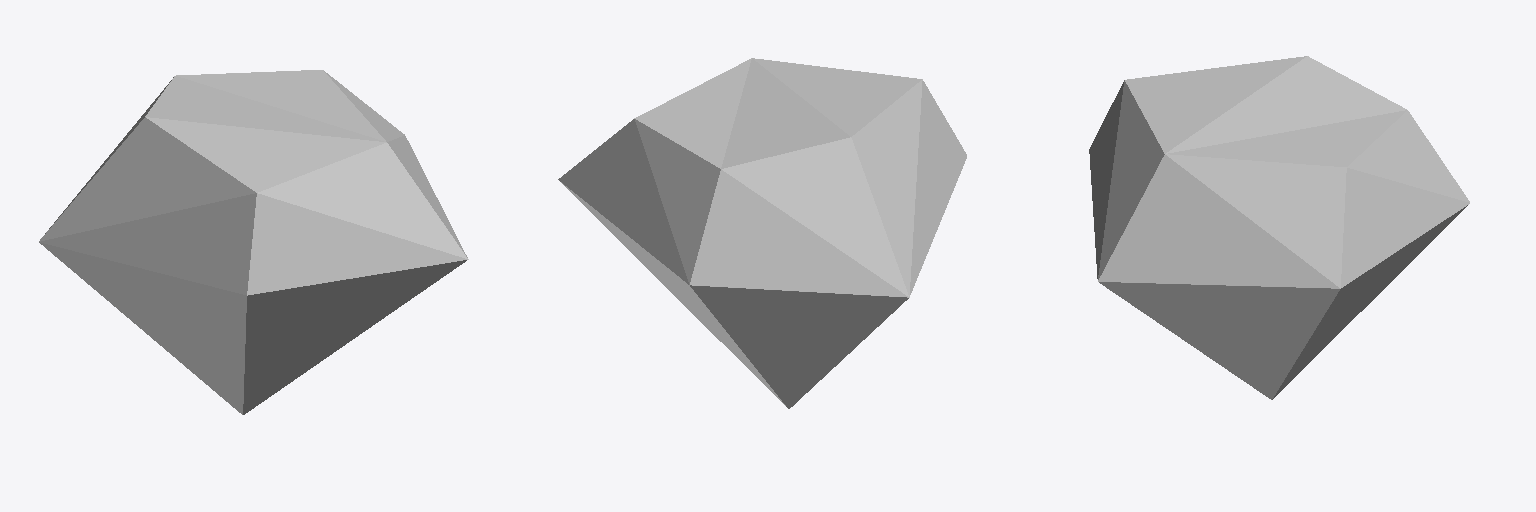
The model's file is gem.obj.
The picture shows the model from 3 angles: view 1: azimuth 30°, elevation 25°; view 2: azimuth 150°, elevation 25°; view 3: azimuth 270°, elevation 25°; orthographic projection.
Parts seen in each view (by area): view 1: Vert; view 2: Vert; view 3: Vert.
Boxes of the visible parts, <box> form: Vert: <box>39,70,468,414</box>; Vert: <box>558,58,966,408</box>; Vert: <box>1089,56,1469,399</box>.
Size of the model in its own units: 1.54 by 1.25 by 1.42.